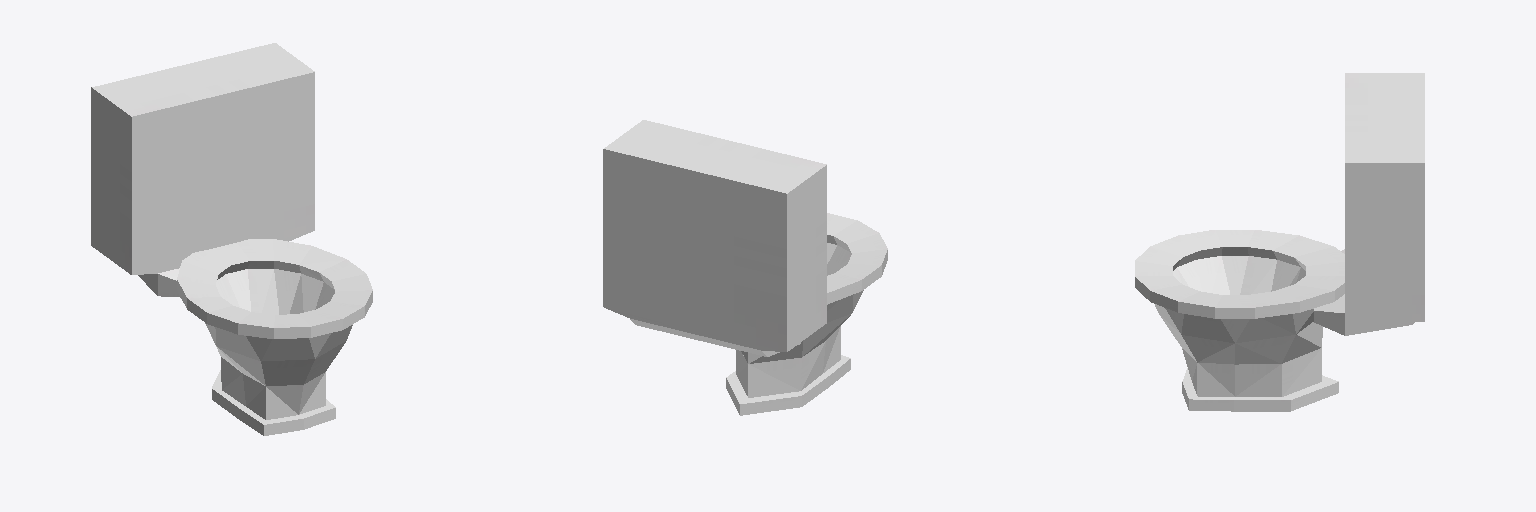
3 renders of one model, left to right at view 1: azimuth 30°, elevation 25°; view 2: azimuth 150°, elevation 25°; view 3: azimuth 270°, elevation 25°, orthographic.
Size of the model in its own units: 1.7 by 2.43 by 2.32.
Materials: 1 (1 with a texture image).